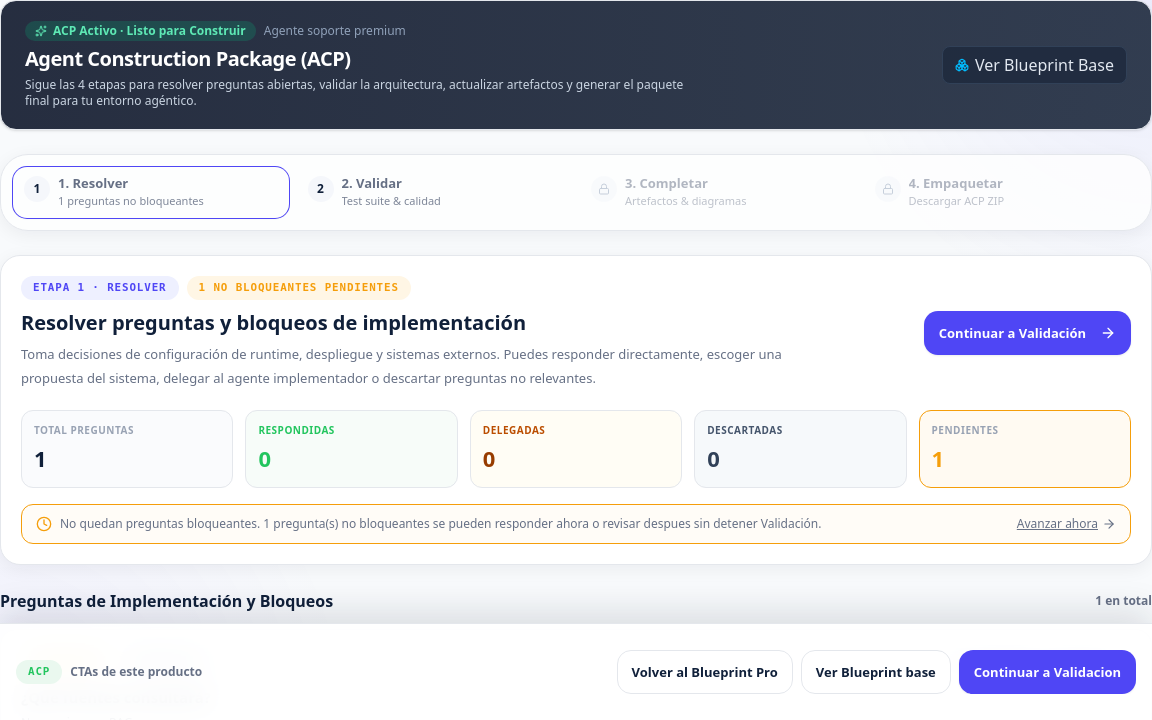
Test case: UXA11 SaaS product views › keeps non-blocking ACP questions visible without locking Validation
Expected: the text "No quedan preguntas bloqueantes" is shown, [60,515,822,532]
Step 1. Click the button "Continuar a Validación" → (1027, 333), box [924,311,1131,355]
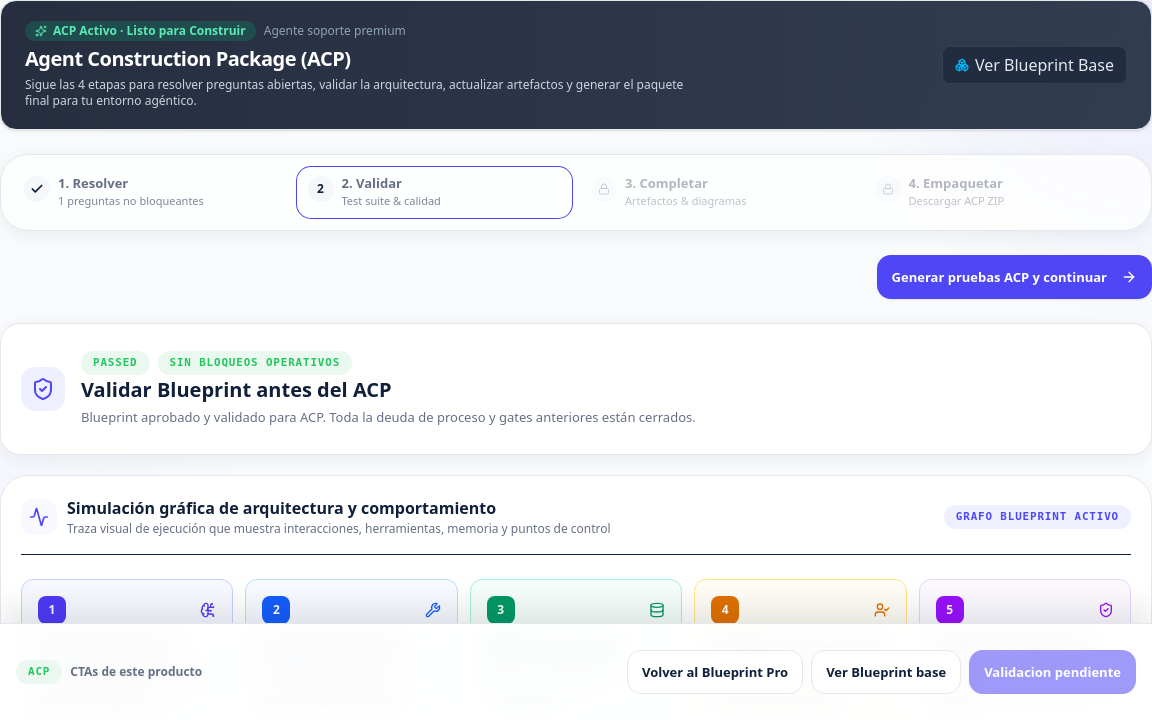
Result: the button "Generar pruebas ACP y continuar" is shown at [877,255,1151,299]
